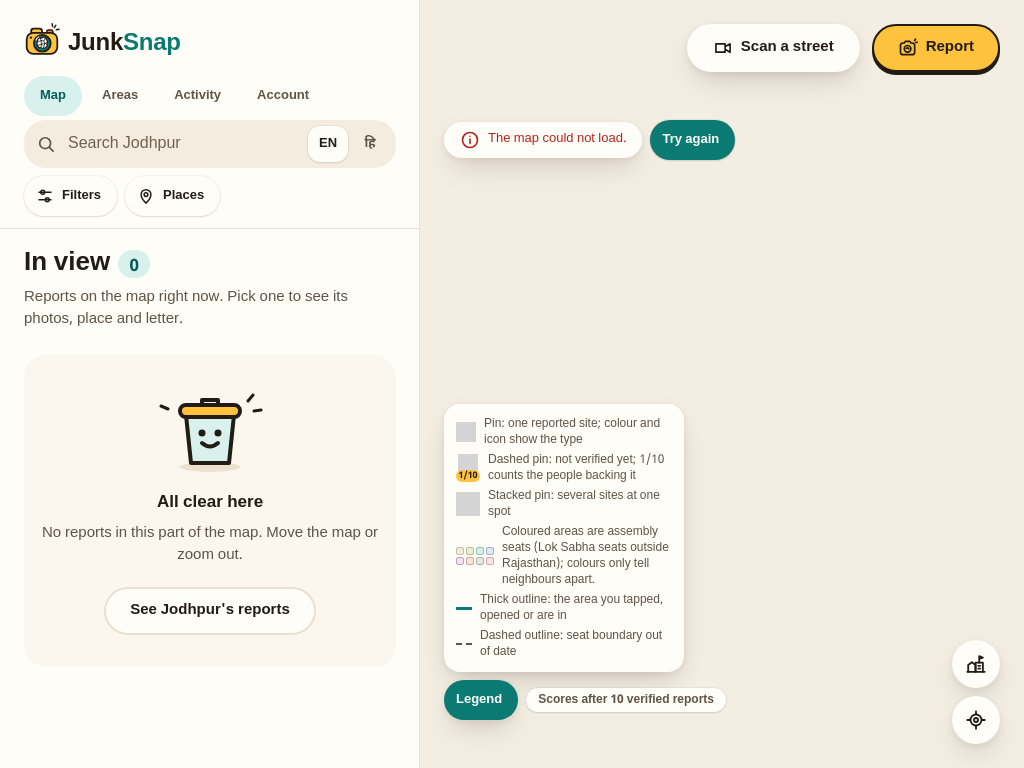
Test: a basemap that fails to load › says so at once with Try again, which asks the map for its style again
Click the button "Try again". click: (693, 140)
box: 650,120 -> 735,160
Wait 600 ms
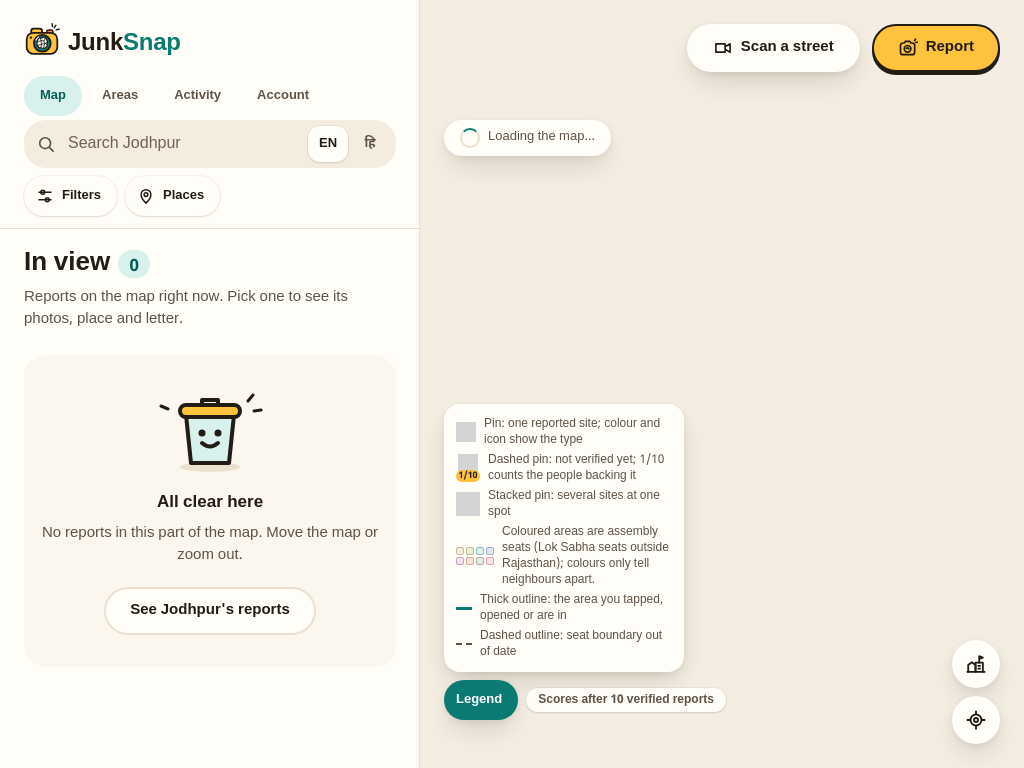
Expected: the text "The map could not load." is gone
Expected: the text "Loading the map…" is shown, 488,128 -> 595,146
